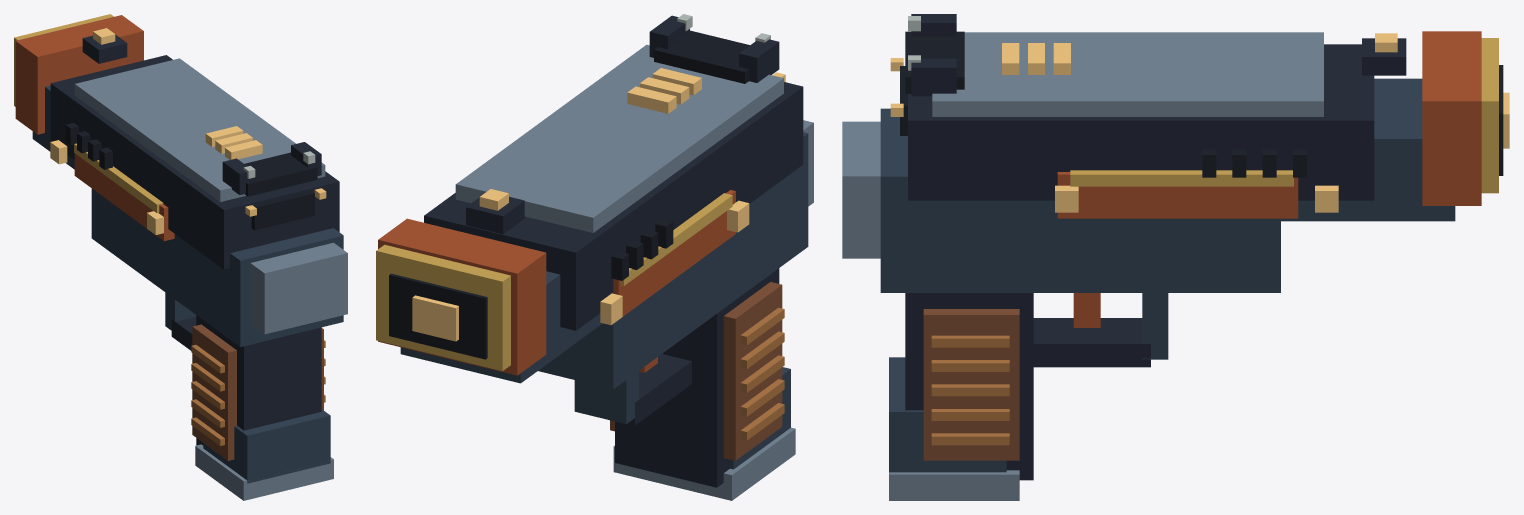
Rendered from spark_pistol.glb.
The picture shows the model from 3 angles, left to right: view 1: azimuth 30°, elevation 25°; view 2: azimuth 150°, elevation 25°; view 3: azimuth 270°, elevation 25°; orthographic projection. The views are drawn at different scales.
Size of the model in its own units: 0.206 by 0.443 by 0.6185.
1 material, 1 textured.
